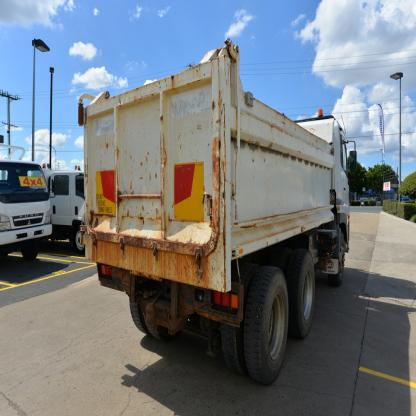dump_truck: (76, 29, 353, 388)
